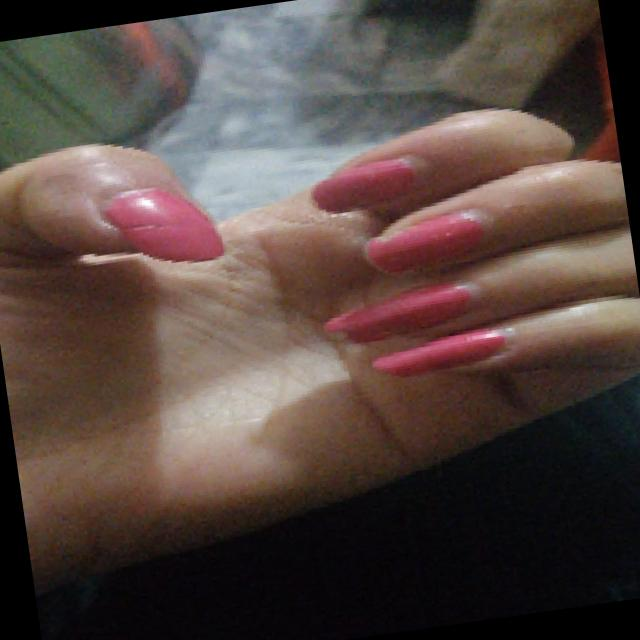Nail: (325, 283, 471, 342), (106, 188, 223, 261), (367, 211, 483, 271), (373, 328, 505, 377), (313, 159, 414, 212)
